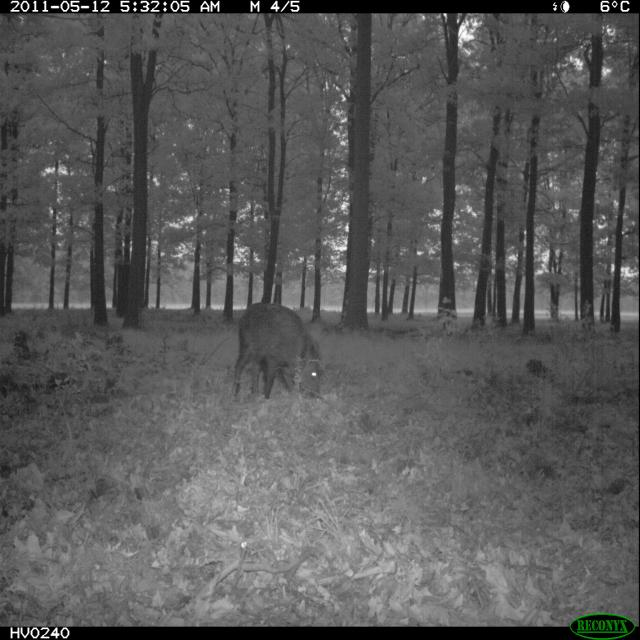boar: (212, 296, 344, 418)
